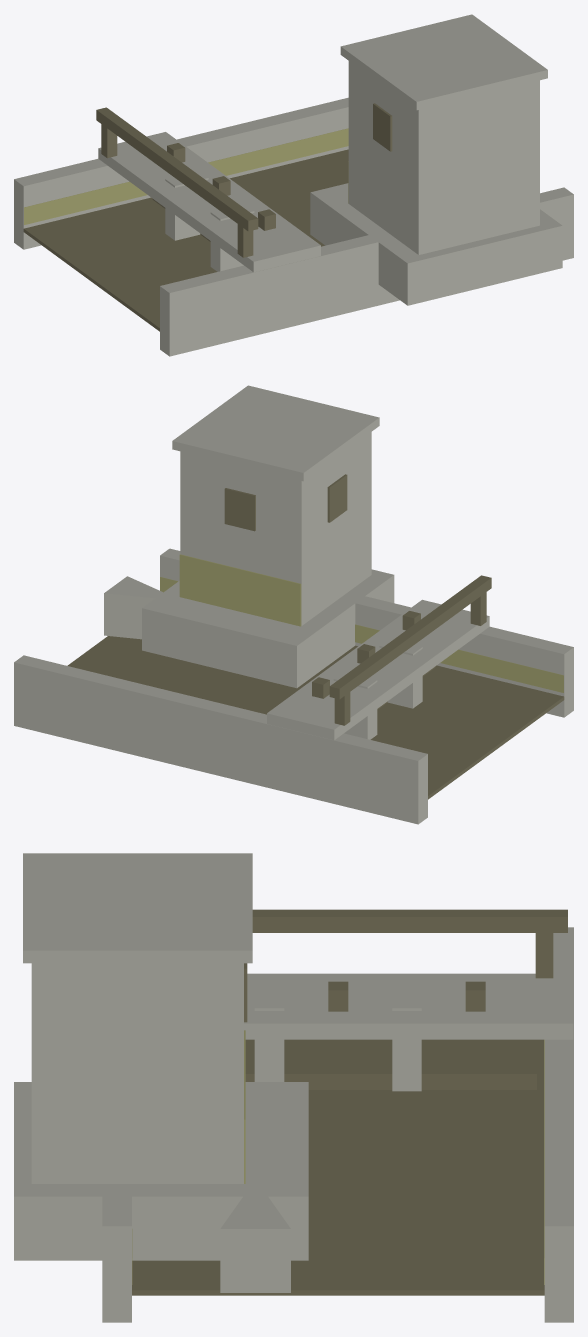
Rendered from SM_CasetaCompuertas_v0_Foto_LOD1.fbx.
3 renders of one model, top to bottom at view 1: azimuth 30°, elevation 25°; view 2: azimuth 150°, elevation 25°; view 3: azimuth 270°, elevation 25°, orthographic. The views are drawn at different scales.
Visible parts, largest first — view 1: SM_bloques.caseta_compuertas_v0_LOD1; view 2: SM_bloques.caseta_compuertas_v0_LOD1; view 3: SM_bloques.caseta_compuertas_v0_LOD1.
Part boxes in pixels (x1,y1,x2,y2): SM_bloques.caseta_compuertas_v0_LOD1: [14, 14, 573, 356]; SM_bloques.caseta_compuertas_v0_LOD1: [14, 385, 573, 824]; SM_bloques.caseta_compuertas_v0_LOD1: [14, 853, 573, 1322].
Size of the model in its own units: 12.1 by 6.24 by 9.5.
